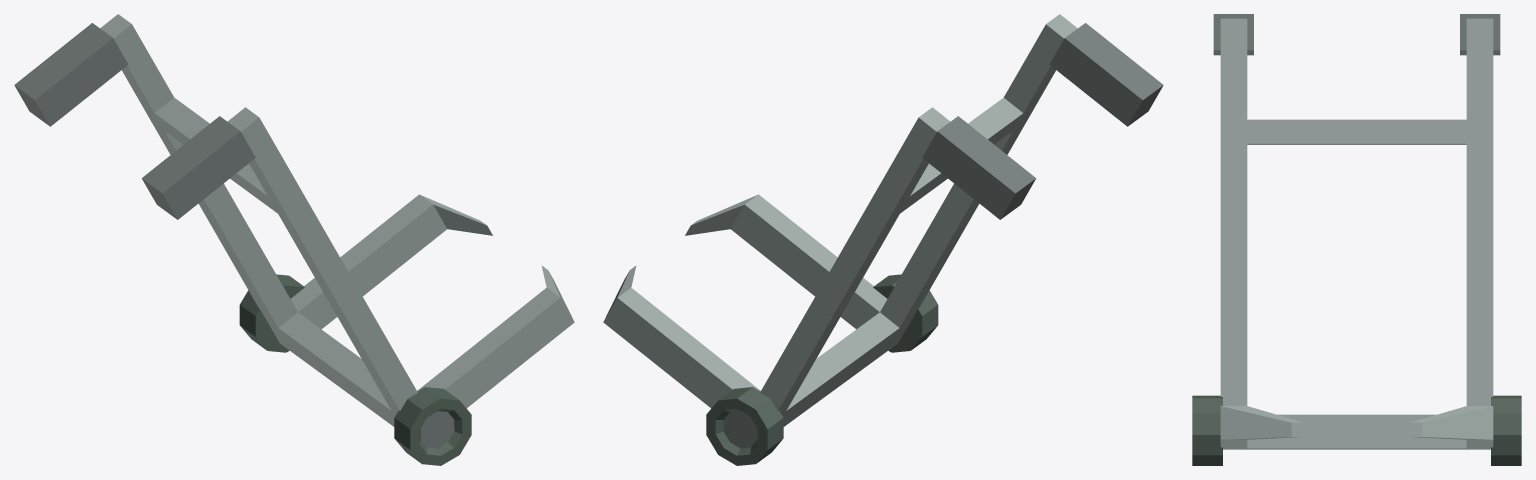
File: Carucior.fbx
The picture shows the model from 3 angles, left to right: view 1: azimuth 30°, elevation 25°; view 2: azimuth 150°, elevation 25°; view 3: azimuth 270°, elevation 25°; orthographic projection. The views are drawn at different scales.
Parts seen in each view (by area): view 1: Cube, Cylinder, Cylinder.001; view 2: Cube, Cylinder.001, Cylinder; view 3: Cube, Cylinder, Cylinder.001.
Part boxes in pixels (bbox=[...]): Cube: bbox=[14, 14, 574, 426]; Cylinder: bbox=[394, 387, 471, 465]; Cylinder.001: bbox=[239, 274, 304, 352]; Cube: bbox=[603, 14, 1163, 426]; Cylinder.001: bbox=[706, 387, 783, 465]; Cylinder: bbox=[873, 274, 938, 352]; Cube: bbox=[1213, 14, 1500, 449]; Cylinder: bbox=[1192, 395, 1222, 465]; Cylinder.001: bbox=[1491, 395, 1521, 465].
Size of the model in its own units: 353 by 296 by 241.
